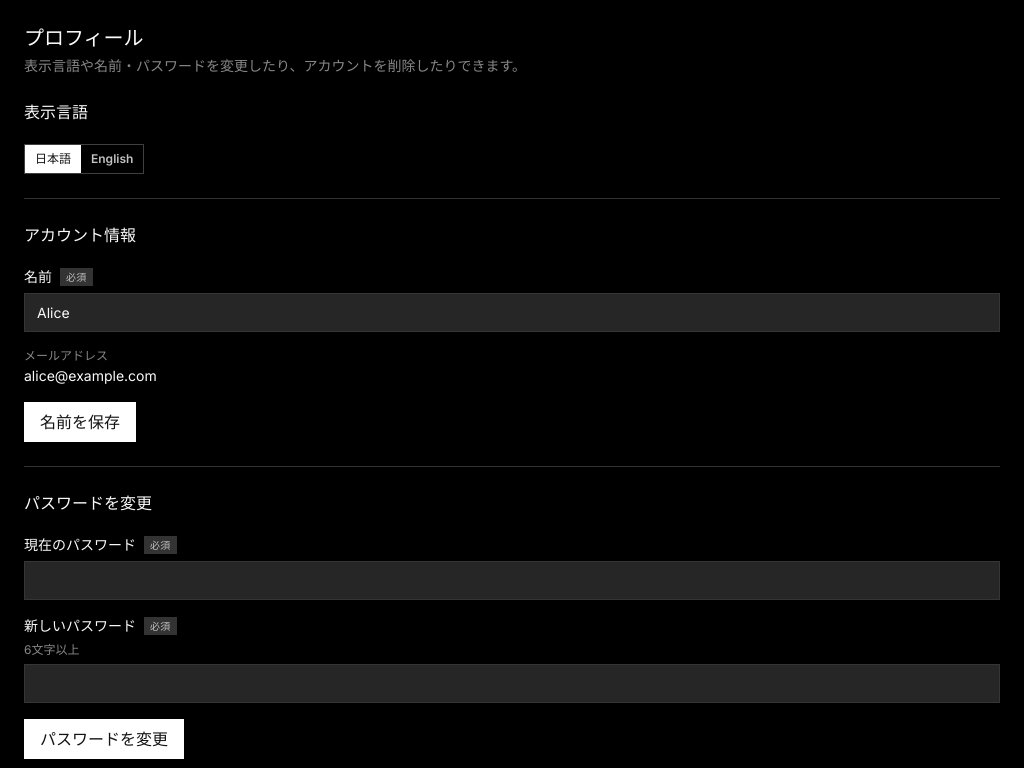
Scenario: ProfilePage（名前変更） › 名前を保存すると成功トーストが出る
Replace the text in the field showing "Alice" with "Alice Updated" at [512, 312], box [24,293,1000,332]
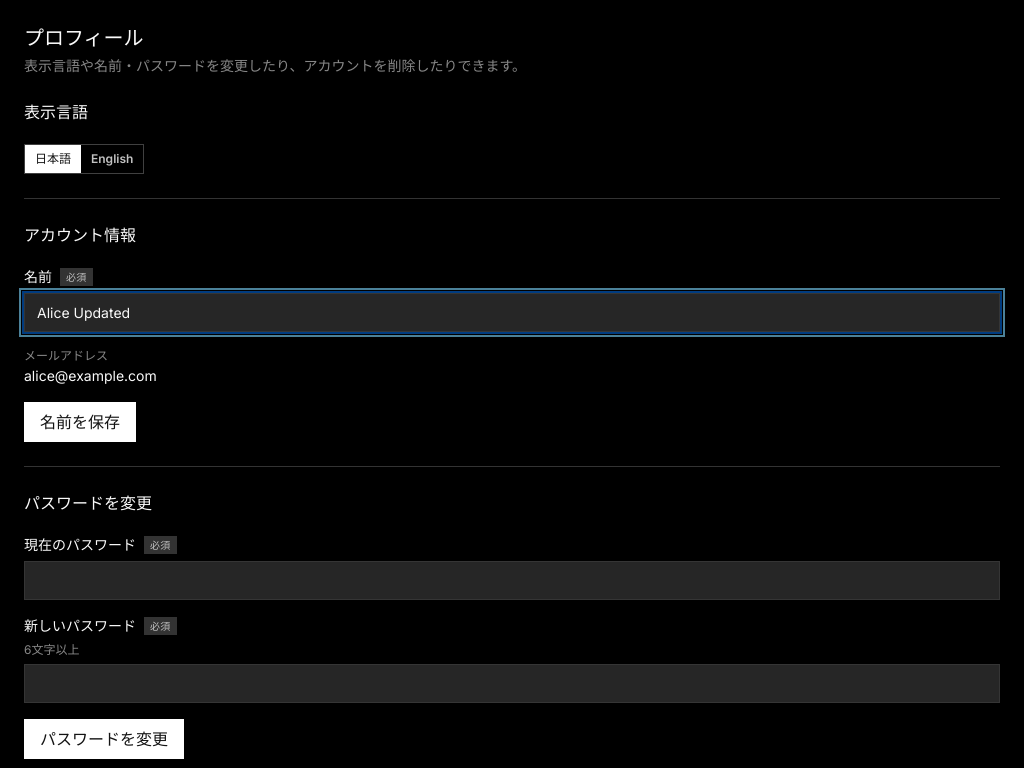
Click the button "名前を保存" at [80, 422], box [24,402,136,442]
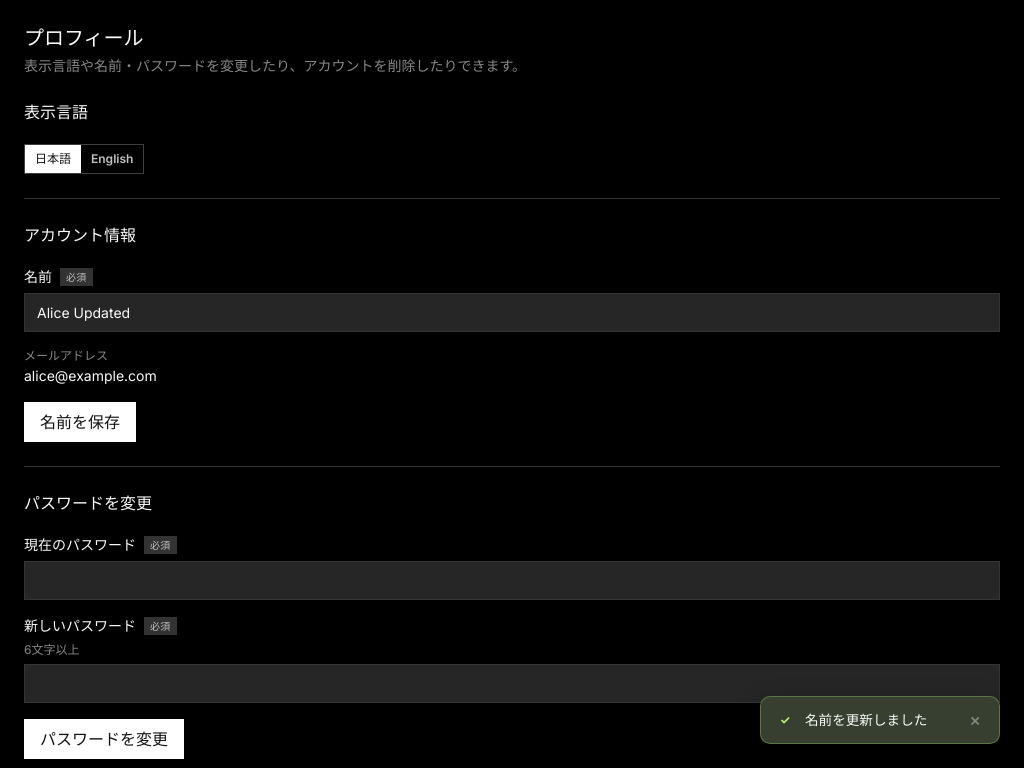
Check: the text "名前を更新しました" is shown, box [805,712,927,728]
